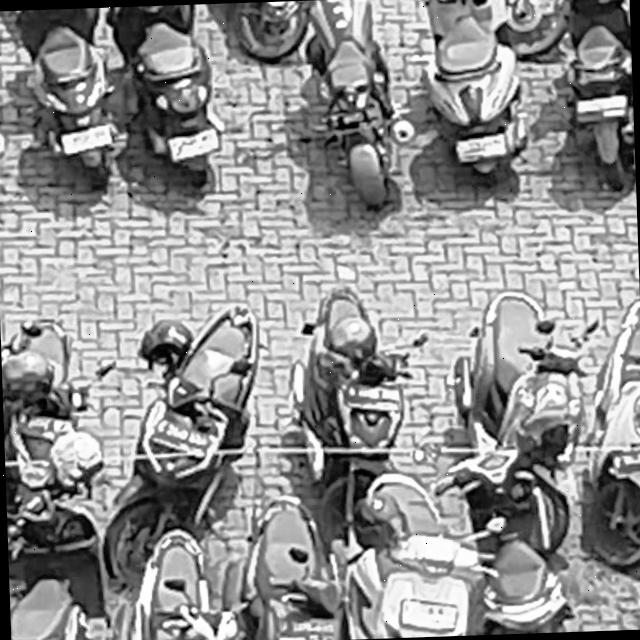motor: (434, 250, 597, 571), (108, 267, 271, 576), (276, 262, 437, 534), (435, 425, 588, 636), (97, 2, 245, 216), (277, 0, 418, 221), (0, 287, 112, 535), (339, 446, 478, 639), (0, 6, 130, 201), (212, 454, 347, 640), (3, 427, 120, 640), (424, 0, 541, 178), (106, 496, 231, 640), (550, 0, 635, 194), (594, 260, 640, 583), (455, 0, 586, 57), (226, 0, 325, 62)
